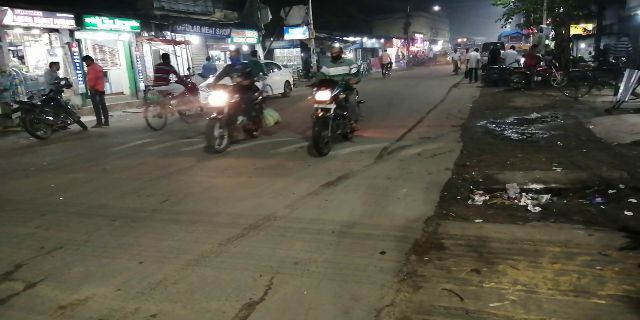Cycle: (135, 46, 203, 135)
Motorbike: (201, 44, 272, 156), (305, 40, 363, 164), (11, 87, 92, 143)
